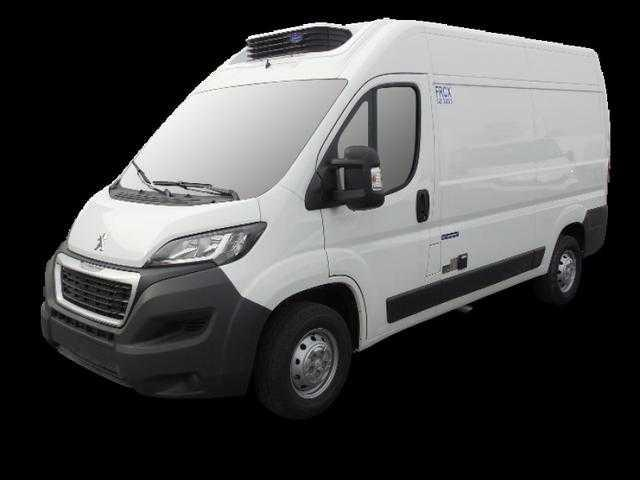car: (38, 15, 615, 413)
